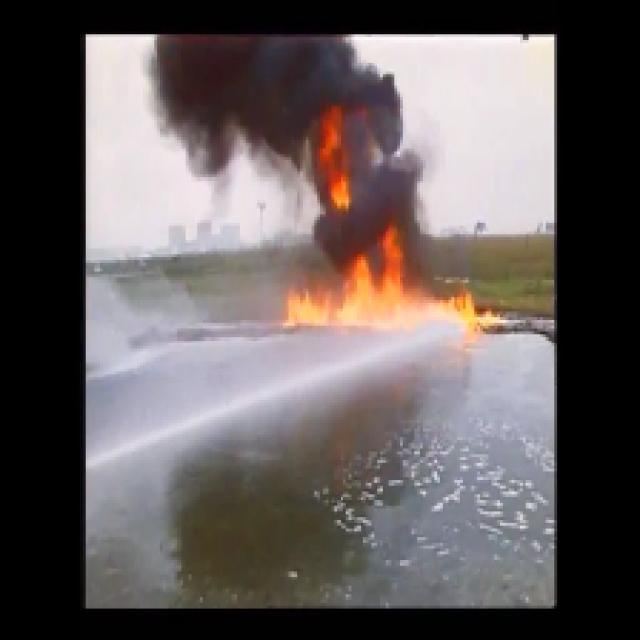Fire: (288, 230, 527, 330)
Smoke: (158, 31, 426, 263)
